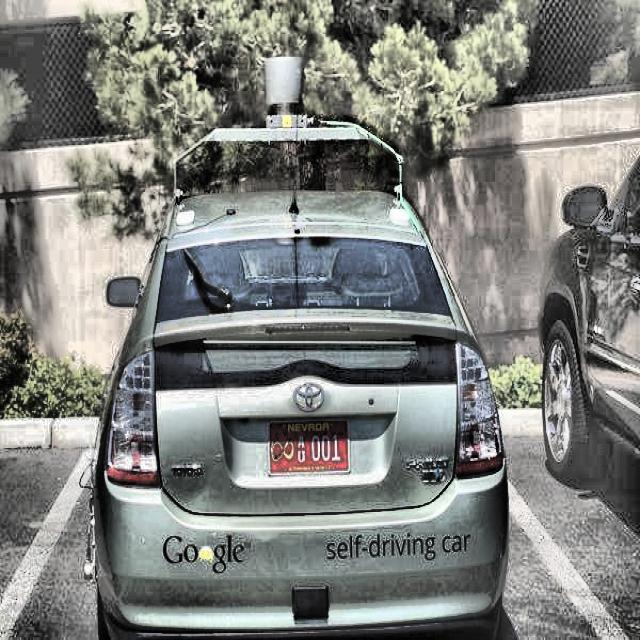license_plate: (270, 418, 348, 476)
